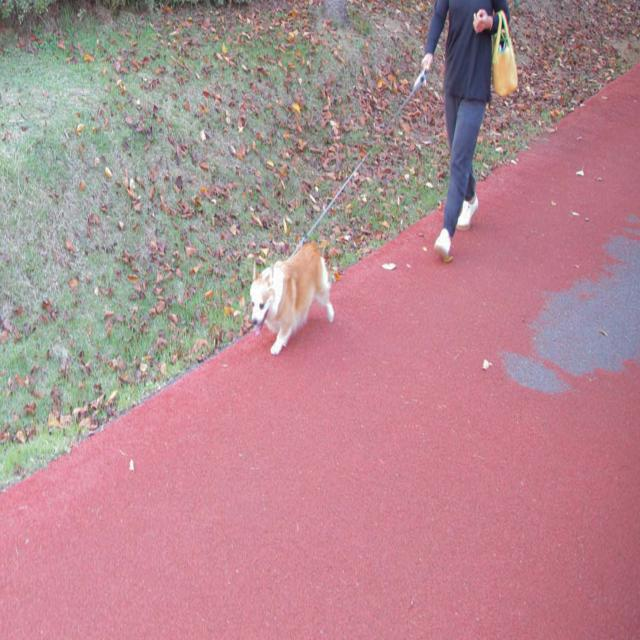Leashed_Dog: (250, 51, 478, 355)
